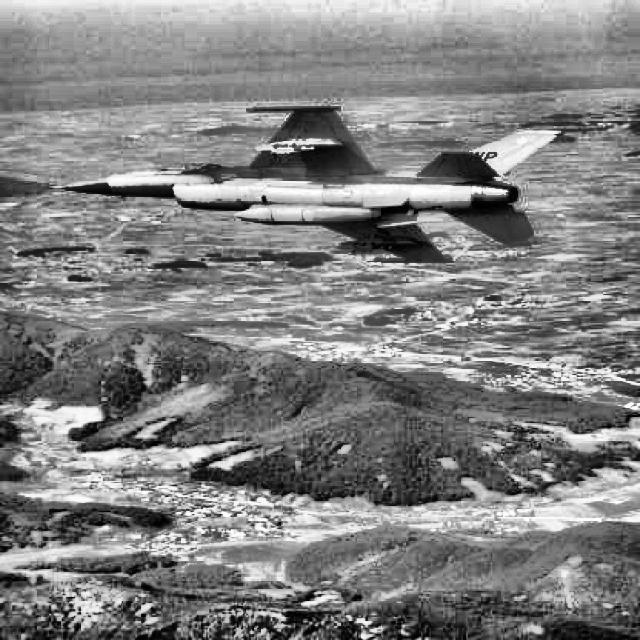F16: (46, 105, 563, 262)
